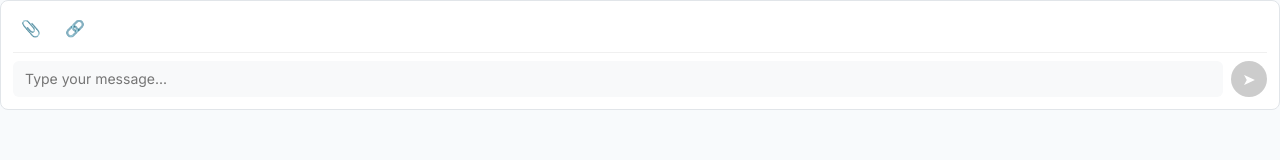
MessageInput › Basic functionality › shows character count
Type "Hello" into the text box with placeholder "Type your message...".
click(618, 79); type("Hello")  # box top-left (13, 61), bottom-right (1223, 97)
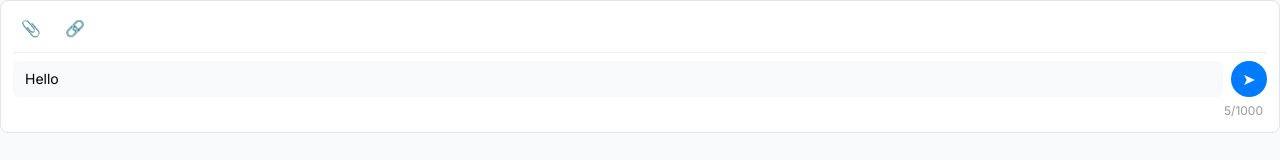
Expected: the text "5/1000" is shown, top-left (1224, 103), bottom-right (1263, 118)
